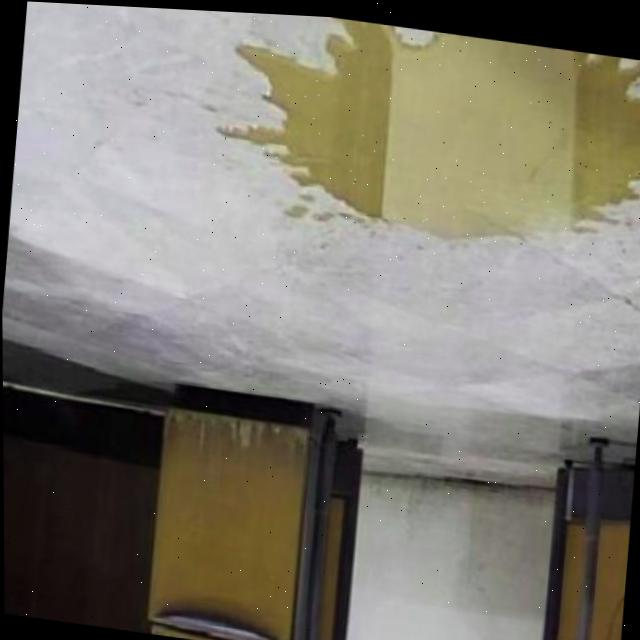spillage: (215, 14, 640, 232)
